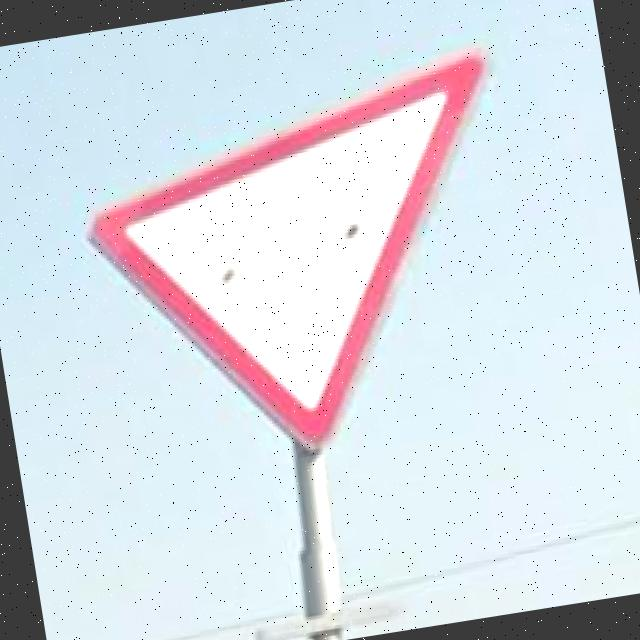Ustap pierwszenstwa: (69, 46, 548, 482)
